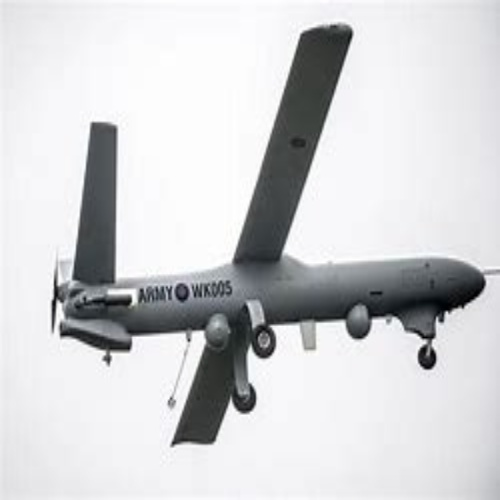uav386: (48, 22, 486, 449)
